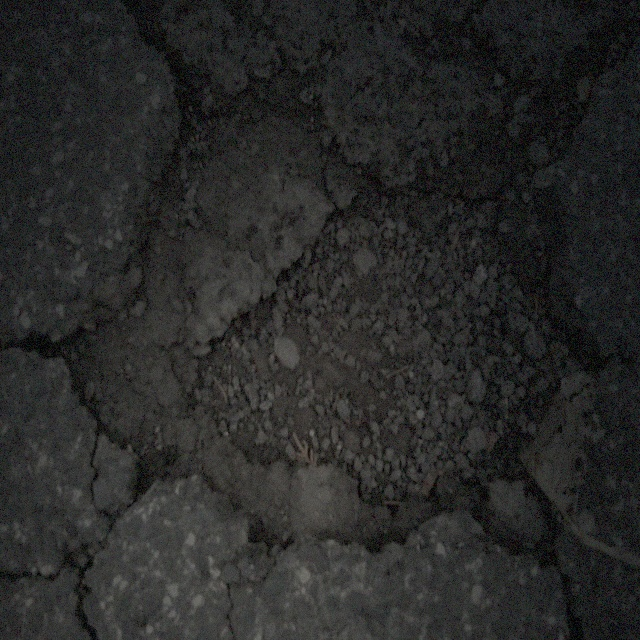pothole: (64, 73, 586, 570)
